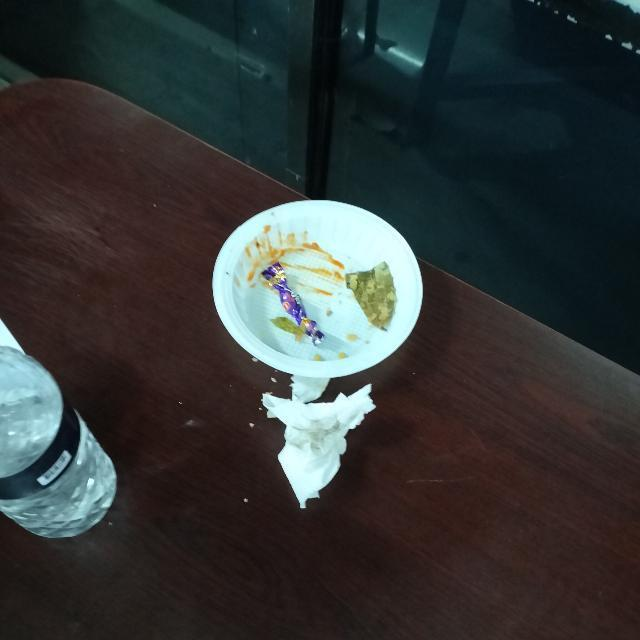kitchen paper: (257, 382, 370, 522)
